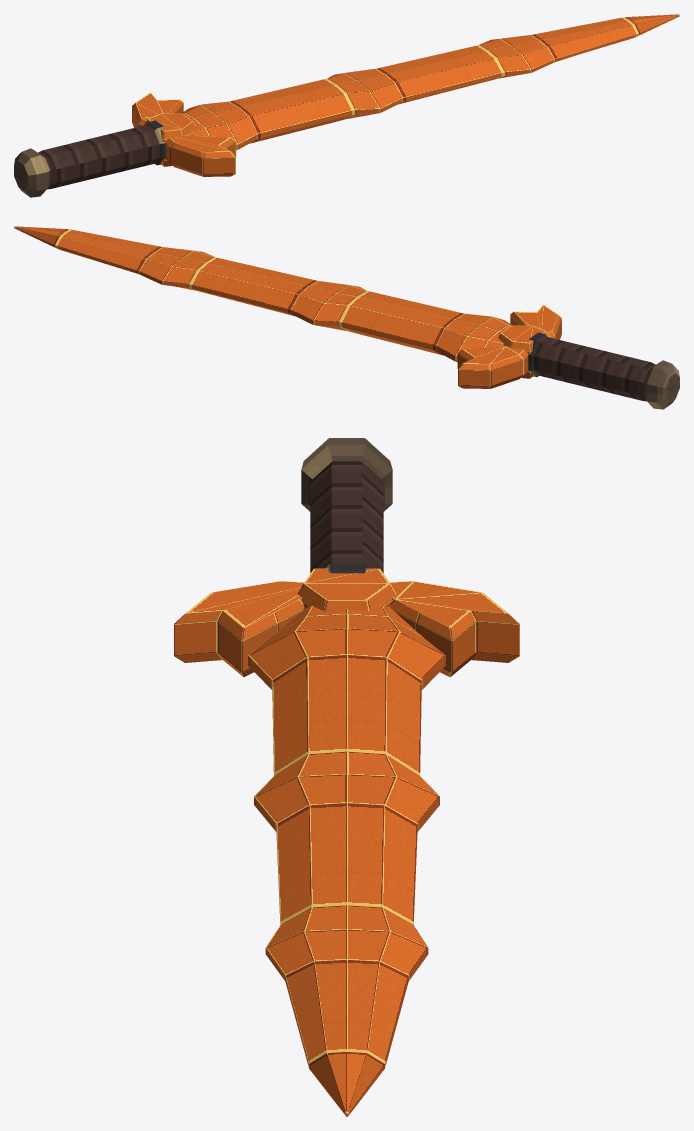
The model's file is bench_chilian_lihuo_sword_5_hot.obj.
3 renders of one model, top to bottom at view 1: azimuth 30°, elevation 25°; view 2: azimuth 150°, elevation 25°; view 3: azimuth 270°, elevation 25°, orthographic. The views are drawn at different scales.
Parts seen in each view (by area): view 1: geometry; view 2: geometry; view 3: geometry.
Part boxes in pixels (x1,y1,x2,y2): geometry: [14, 14, 679, 197]; geometry: [14, 226, 679, 409]; geometry: [174, 438, 519, 1116].
Size of the model in its own units: 0.75 by 0.045 by 0.1708.
